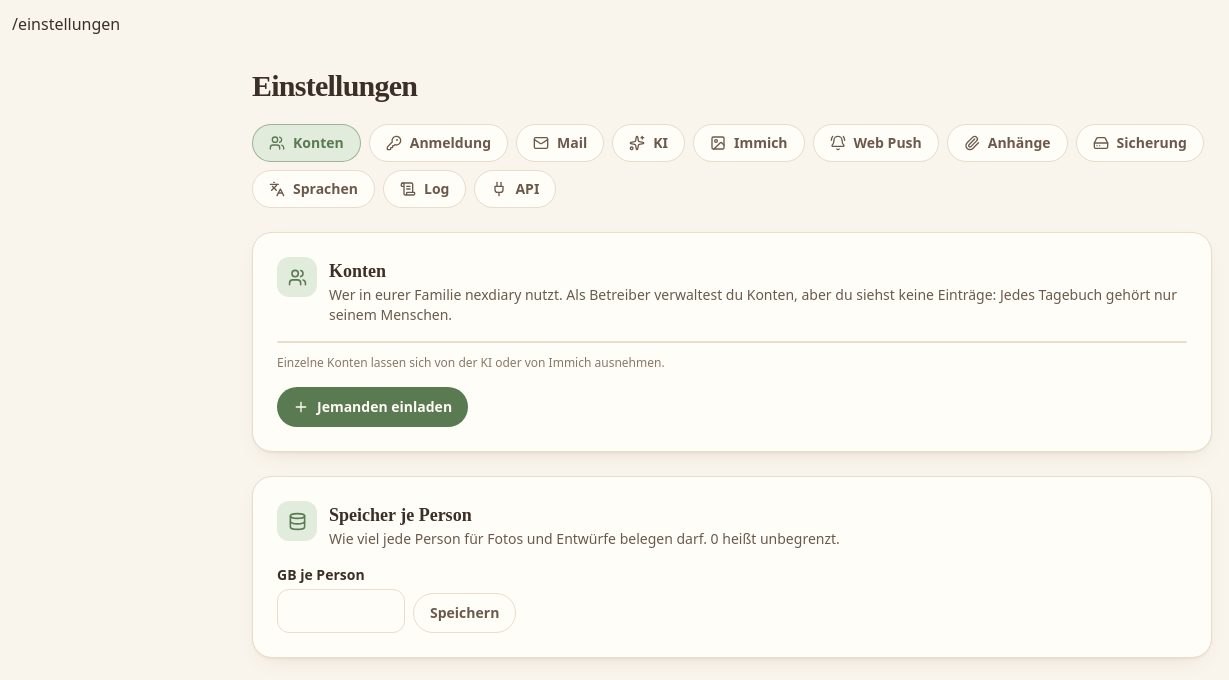
Test: Settings › puts a changed tab in the address
The image size is (1229, 680).
Click the tab "API" at (515, 189), box 474,170 -> 556,208
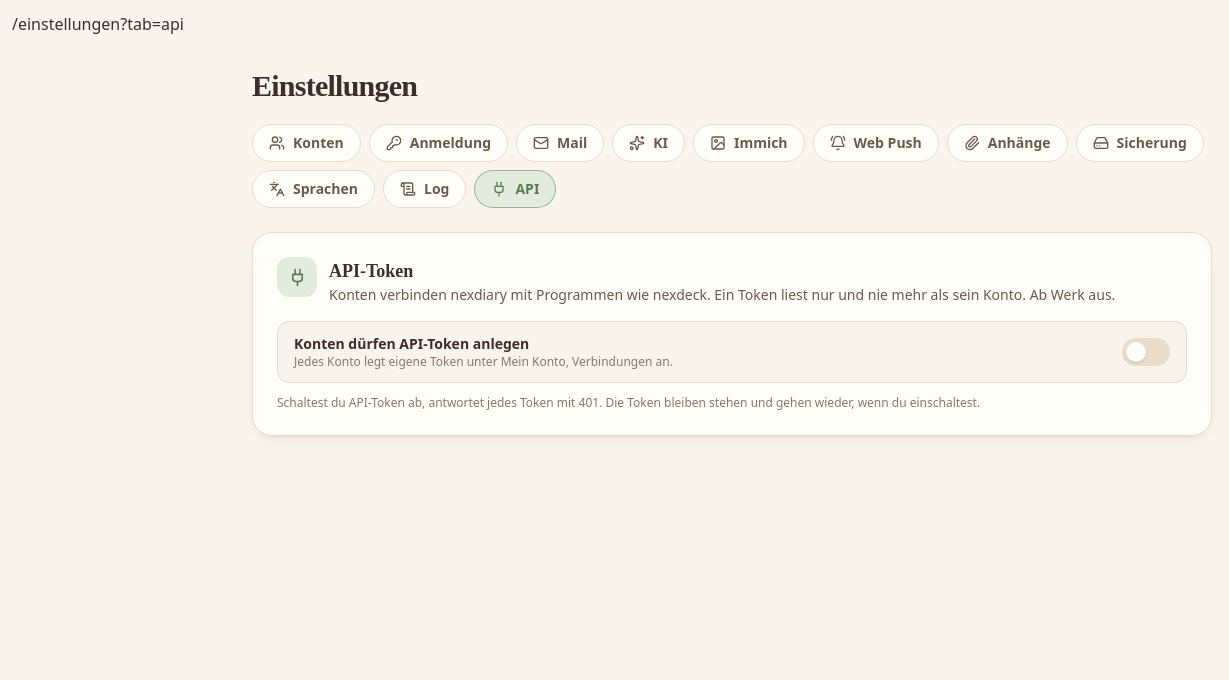
Now the text with test id "where" reads "/einstellungen?tab=api", box 12,13 -> 184,35
